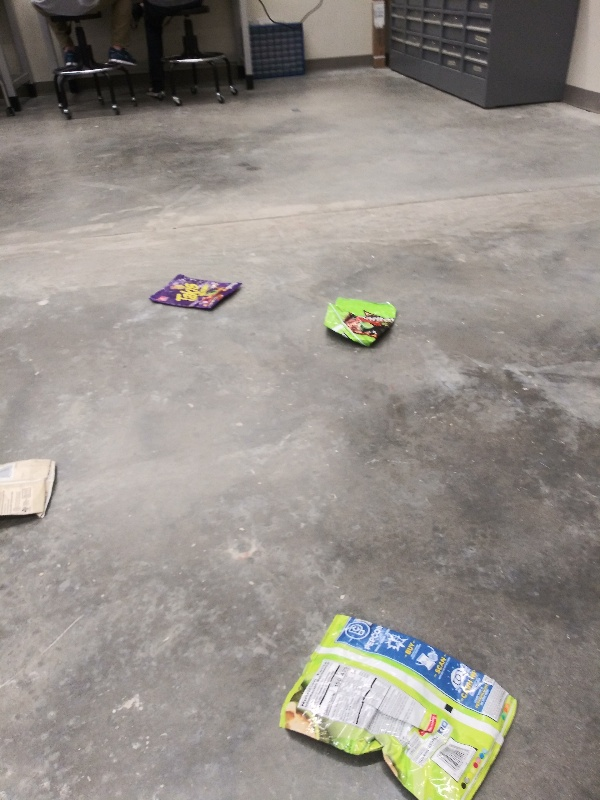bag: (275, 608, 523, 797), (320, 293, 402, 347), (144, 272, 247, 312), (1, 454, 57, 524)
